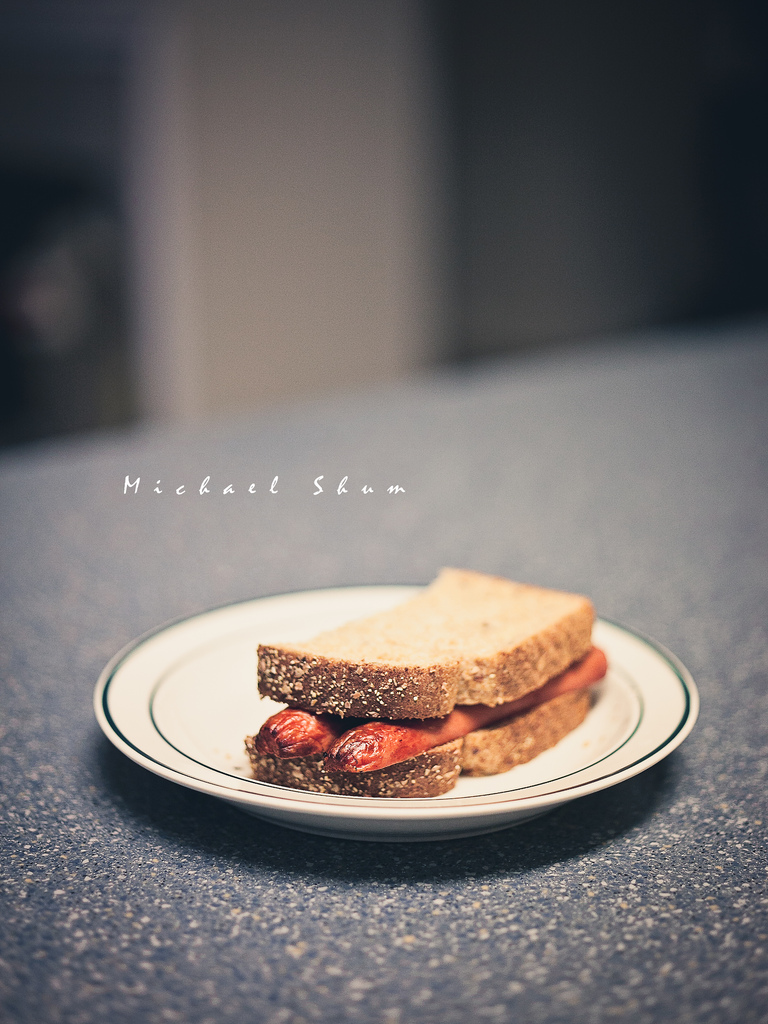slice of bread: (255, 563, 597, 700), (248, 735, 593, 807)
